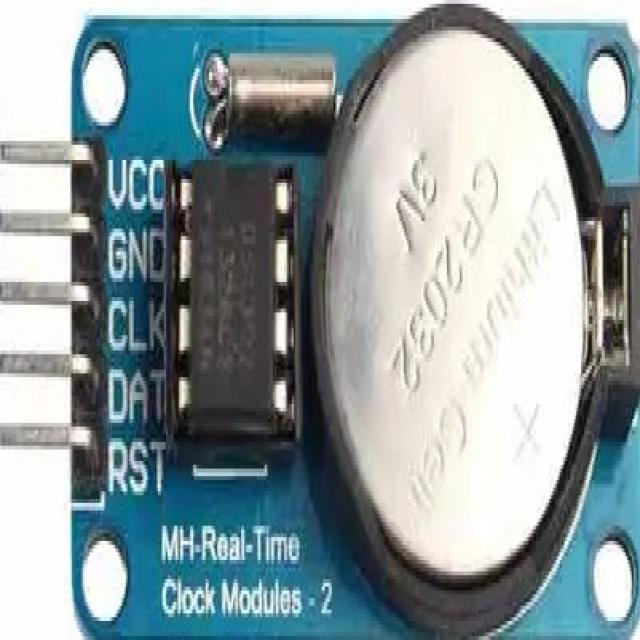IC: (178, 166, 289, 426)
battery: (322, 19, 602, 591)
clock Q1: (205, 50, 337, 144)
connector -5v-: (0, 140, 103, 498)
